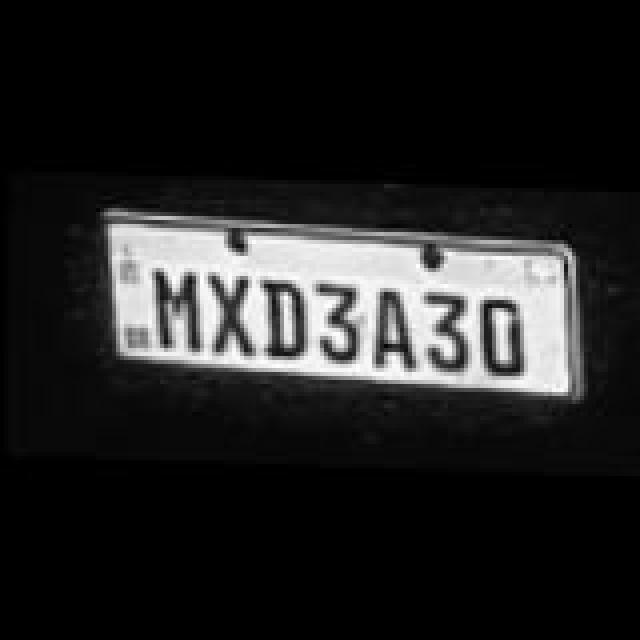3: (416, 288, 472, 368), (310, 280, 362, 360)
A: (364, 282, 420, 362)
D: (256, 274, 312, 354), (472, 290, 528, 370)
M: (146, 264, 206, 348)
X: (204, 268, 260, 348)
